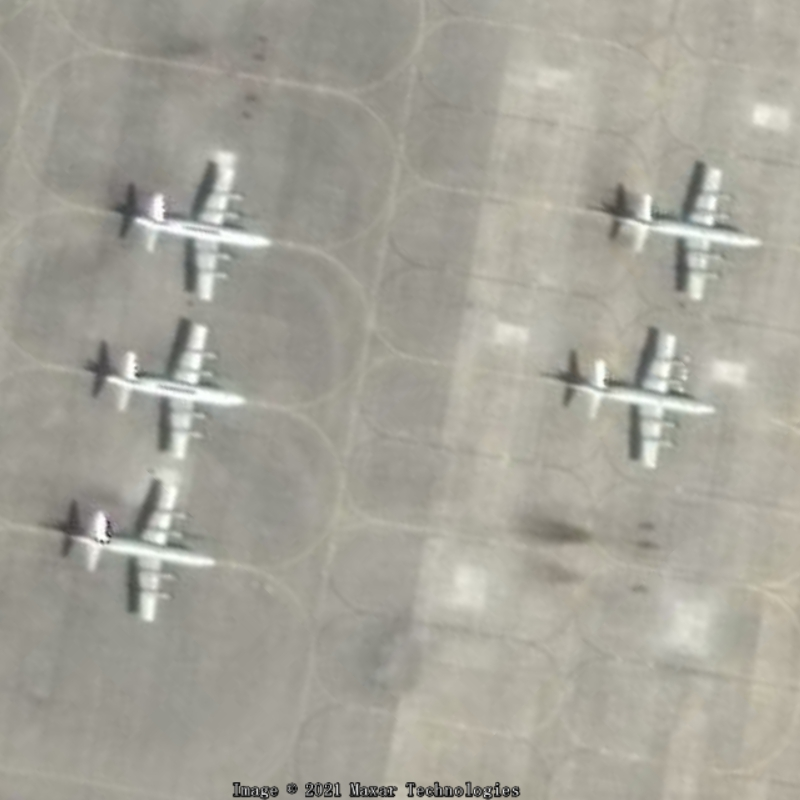A9: (554, 319, 723, 478), (119, 144, 279, 311), (56, 473, 222, 631), (600, 158, 769, 308), (96, 313, 253, 466)
